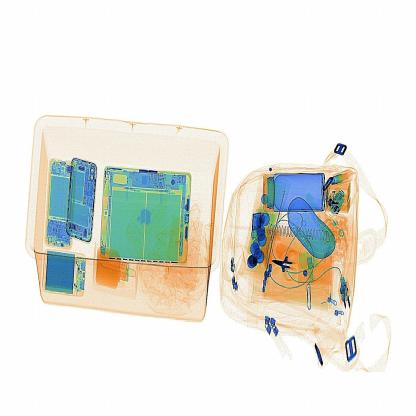gun: (268, 248, 306, 289)
